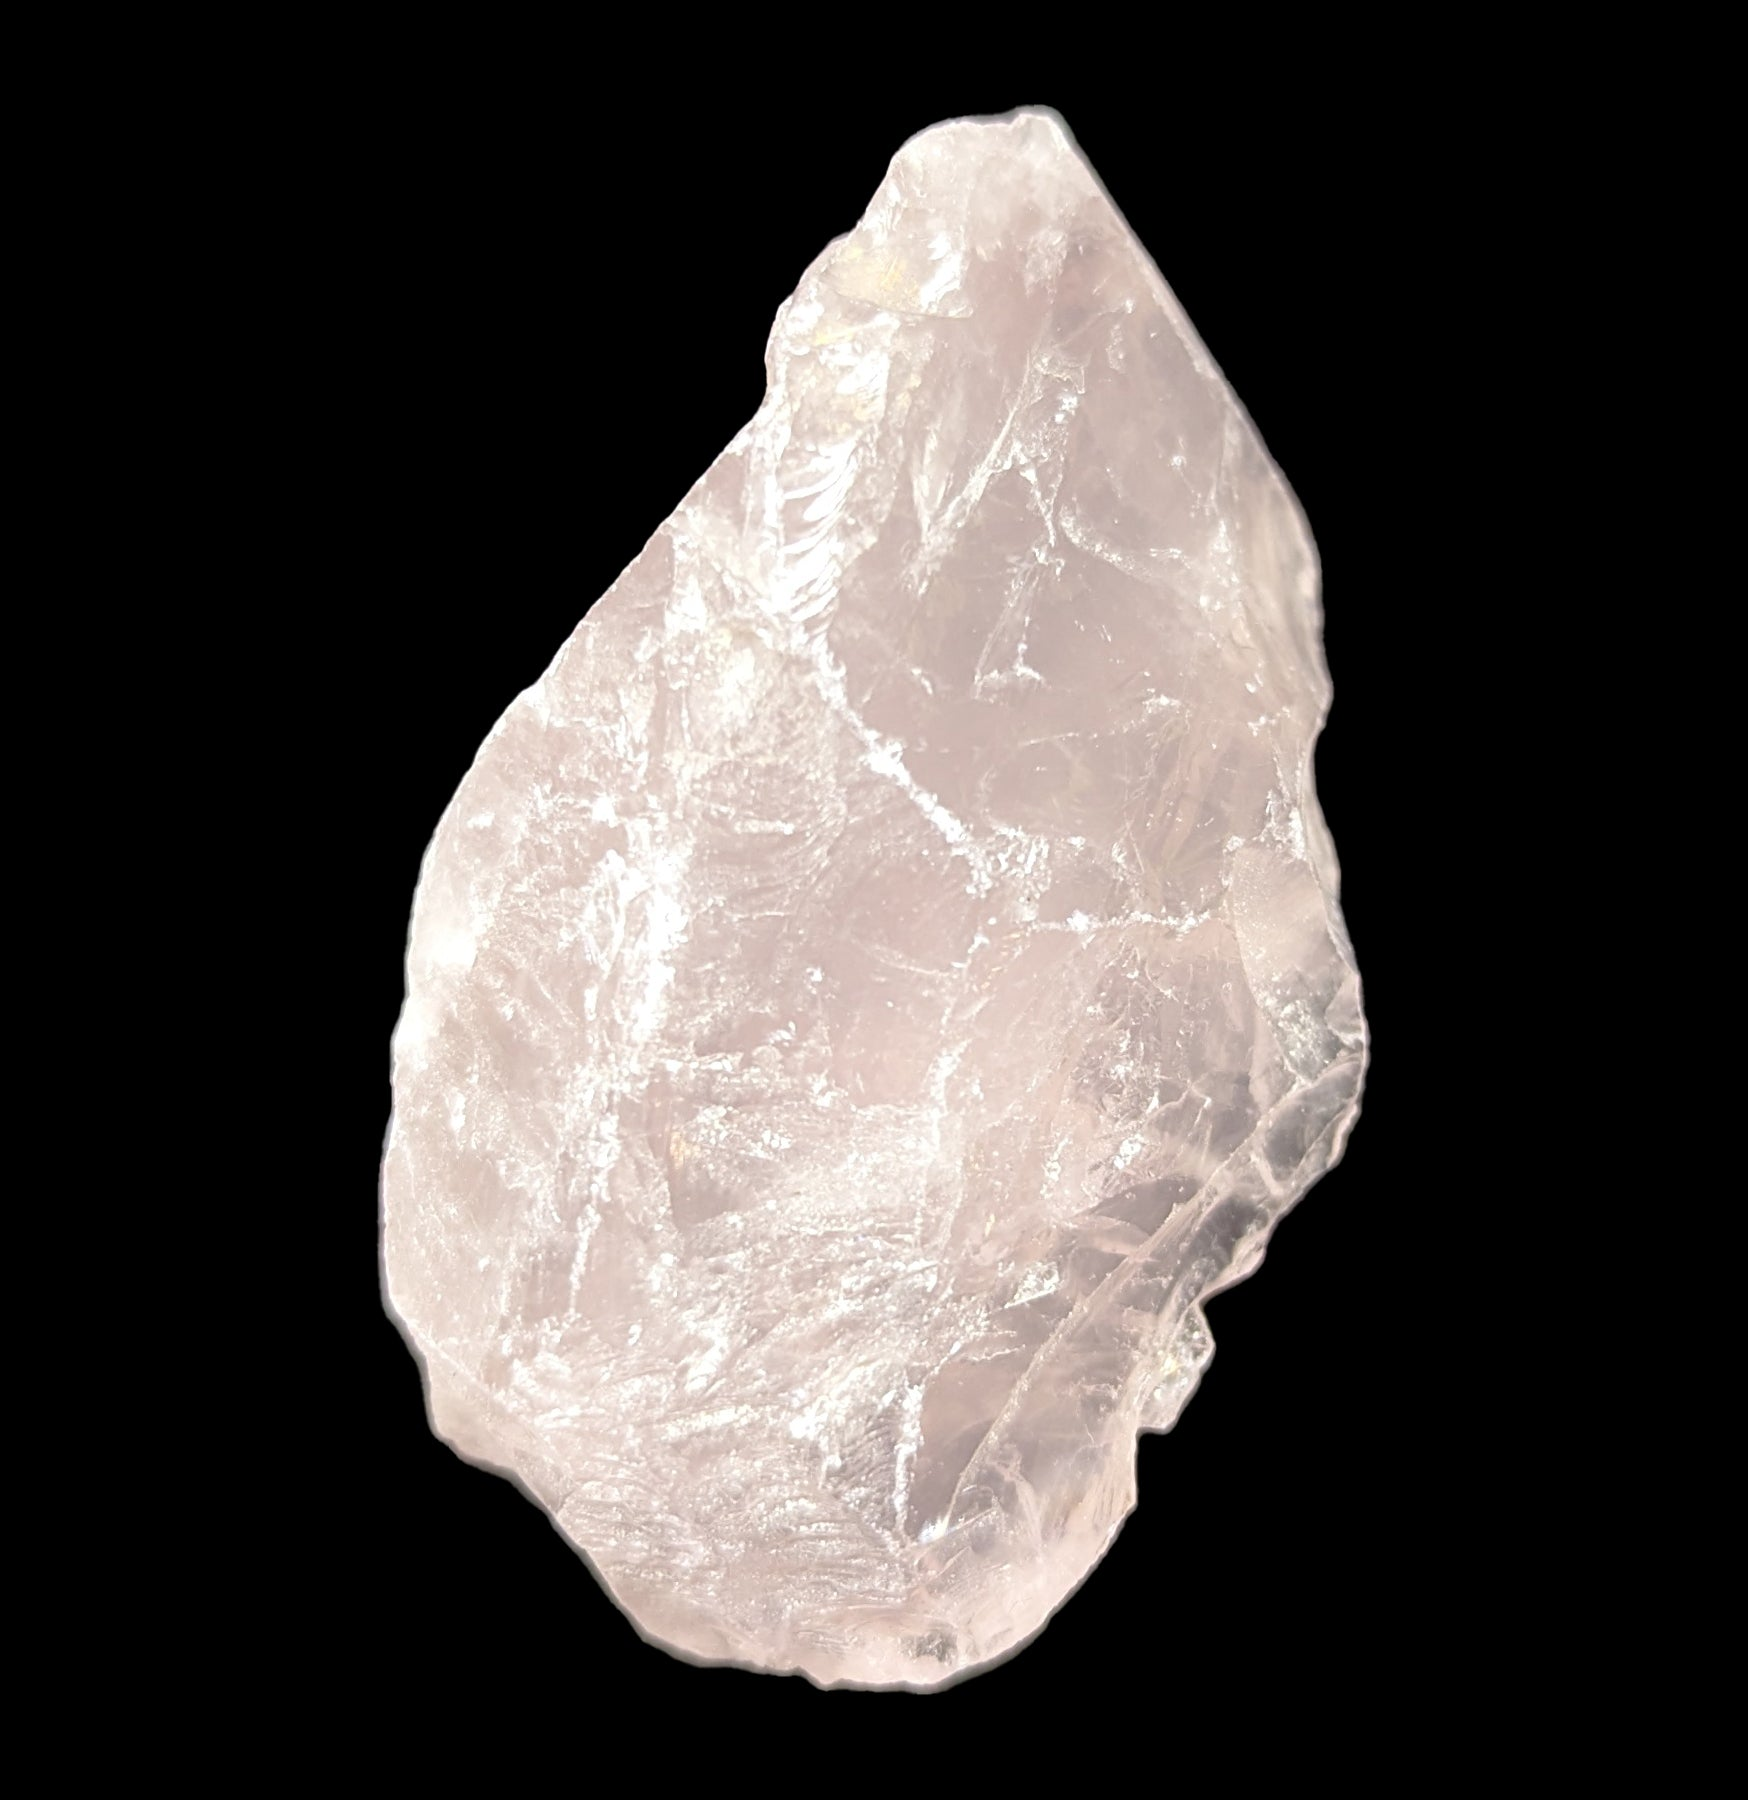Rose_Quartz: (371, 93, 1370, 1704)
